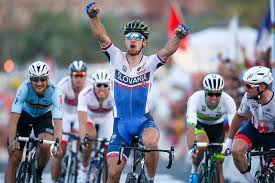helmet: (116, 18, 153, 57), (241, 63, 275, 100), (197, 71, 230, 107), (27, 58, 48, 91), (72, 58, 88, 89), (95, 71, 107, 101)
